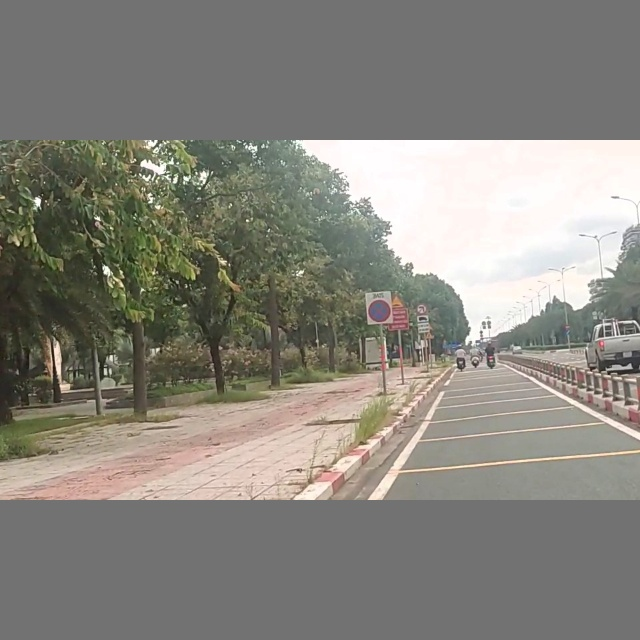P.123b: (416, 303, 428, 314)
P.130: (365, 289, 393, 325)
S.505a*Xe tai: (417, 314, 430, 333)
